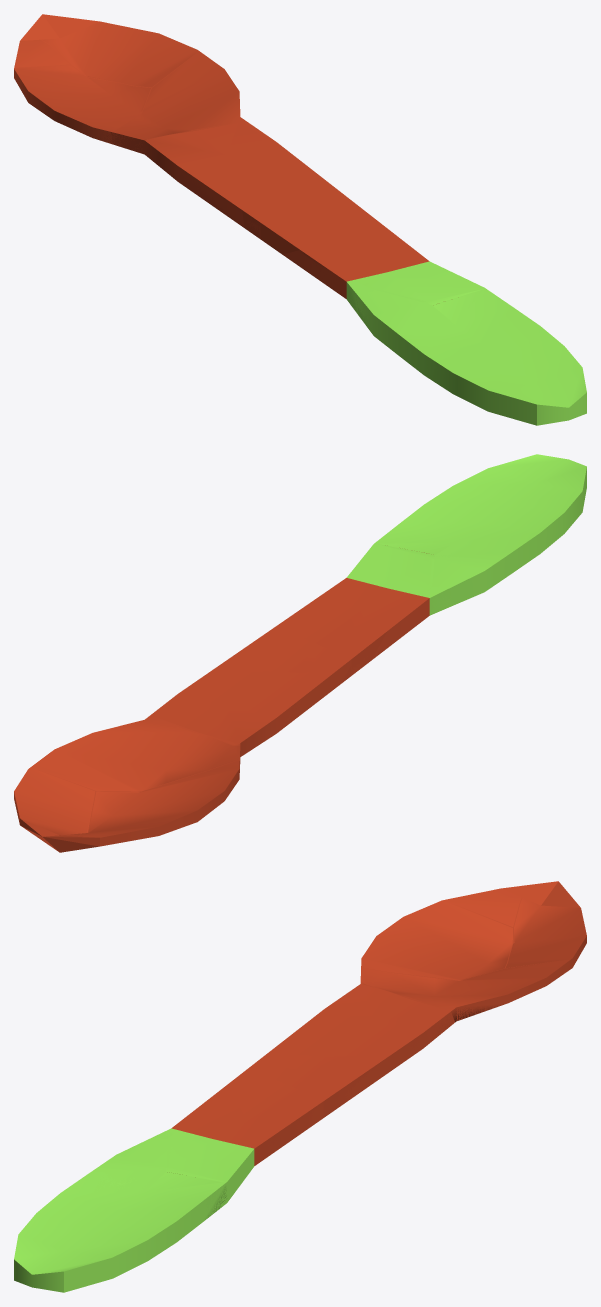
File: P_Cuillere_Colored_Breakable.fbx
3 views of the same model, one above another, from view 1: azimuth 30°, elevation 25°; view 2: azimuth 150°, elevation 25°; view 3: azimuth 330°, elevation 25° (orthographic).
Visible parts, largest first — view 1: P_Cuillere_Colored_Breakable, P_Cuillere_Colored_Breakable_cell.002, P_Cuillere_Colored_Breakable_cell.006, P_Cuillere_Colored_Breakable_cell.009, P_Cuillere_Colored_Breakable_cell.008, P_Cuillere_Colored_Breakable_cell.004, P_Cuillere_Colored_Breakable_cell.007, P_Cuillere_Colored_Breakable_cell, P_Cuillere_Colored_Breakable_cell.003, P_Cuillere_Colored_Breakable_cell.005, P_Cuillere_Colored_Breakable_cell.001; view 2: P_Cuillere_Colored_Breakable, P_Cuillere_Colored_Breakable_cell.009, P_Cuillere_Colored_Breakable_cell.002, P_Cuillere_Colored_Breakable_cell.008, P_Cuillere_Colored_Breakable_cell.006, P_Cuillere_Colored_Breakable_cell.004, P_Cuillere_Colored_Breakable_cell, P_Cuillere_Colored_Breakable_cell.005, P_Cuillere_Colored_Breakable_cell.007, P_Cuillere_Colored_Breakable_cell.001; view 3: P_Cuillere_Colored_Breakable, P_Cuillere_Colored_Breakable_cell.008, P_Cuillere_Colored_Breakable_cell.002, P_Cuillere_Colored_Breakable_cell.009, P_Cuillere_Colored_Breakable_cell.006, P_Cuillere_Colored_Breakable_cell.004, P_Cuillere_Colored_Breakable_cell.007, P_Cuillere_Colored_Breakable_cell, P_Cuillere_Colored_Breakable_cell.003.
Boxes of the visible parts, box(x1,y1,x2,y2) form: P_Cuillere_Colored_Breakable: box(14, 29, 586, 425); P_Cuillere_Colored_Breakable_cell.002: box(260, 212, 485, 305); P_Cuillere_Colored_Breakable_cell.006: box(29, 14, 198, 87); P_Cuillere_Colored_Breakable_cell.009: box(112, 51, 245, 147); P_Cuillere_Colored_Breakable_cell.008: box(14, 65, 150, 144); P_Cuillere_Colored_Breakable_cell.004: box(242, 166, 365, 238); P_Cuillere_Colored_Breakable_cell.007: box(433, 290, 586, 425); P_Cuillere_Colored_Breakable_cell: box(133, 121, 306, 227); P_Cuillere_Colored_Breakable_cell.003: box(15, 30, 69, 67); P_Cuillere_Colored_Breakable_cell.005: box(356, 288, 437, 381); P_Cuillere_Colored_Breakable_cell.001: box(287, 253, 367, 314); P_Cuillere_Colored_Breakable: box(14, 454, 586, 852); P_Cuillere_Colored_Breakable_cell.009: box(30, 715, 240, 791); P_Cuillere_Colored_Breakable_cell.002: box(277, 543, 434, 671); P_Cuillere_Colored_Breakable_cell.008: box(88, 760, 239, 838); P_Cuillere_Colored_Breakable_cell.006: box(14, 768, 95, 841); P_Cuillere_Colored_Breakable_cell.004: box(212, 626, 351, 683); P_Cuillere_Colored_Breakable_cell: box(151, 670, 333, 756); P_Cuillere_Colored_Breakable_cell.005: box(436, 524, 551, 570); P_Cuillere_Colored_Breakable_cell.007: box(379, 455, 586, 554); P_Cuillere_Colored_Breakable_cell.001: box(375, 587, 453, 657); P_Cuillere_Colored_Breakable: box(14, 885, 586, 1292); P_Cuillere_Colored_Breakable_cell.008: box(361, 900, 512, 980); P_Cuillere_Colored_Breakable_cell.002: box(166, 1067, 323, 1182); P_Cuillere_Colored_Breakable_cell.009: box(360, 959, 570, 1022); P_Cuillere_Colored_Breakable_cell.006: box(506, 881, 586, 968); P_Cuillere_Colored_Breakable_cell.004: box(250, 1054, 388, 1104); P_Cuillere_Colored_Breakable_cell.007: box(14, 1172, 226, 1291); P_Cuillere_Colored_Breakable_cell: box(267, 982, 454, 1073); P_Cuillere_Colored_Breakable_cell.003: box(446, 885, 524, 926).
Bounding box in the file's own units: 45.56 × 9.69 × 244.
